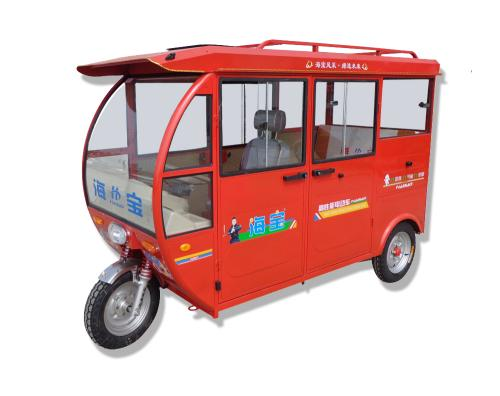tricycle: (68, 20, 441, 363)
